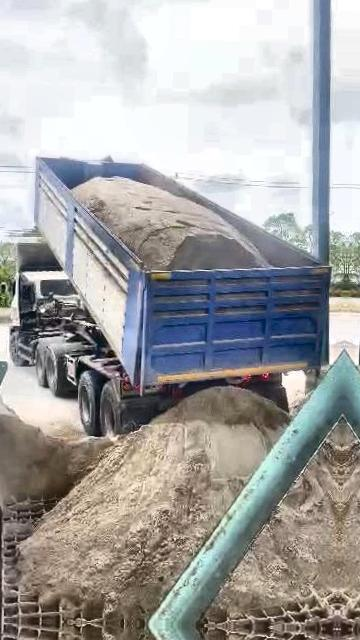sand: (21, 387, 288, 622), (211, 443, 342, 619), (72, 177, 267, 270), (0, 404, 111, 505), (290, 391, 311, 415), (329, 413, 343, 446)
